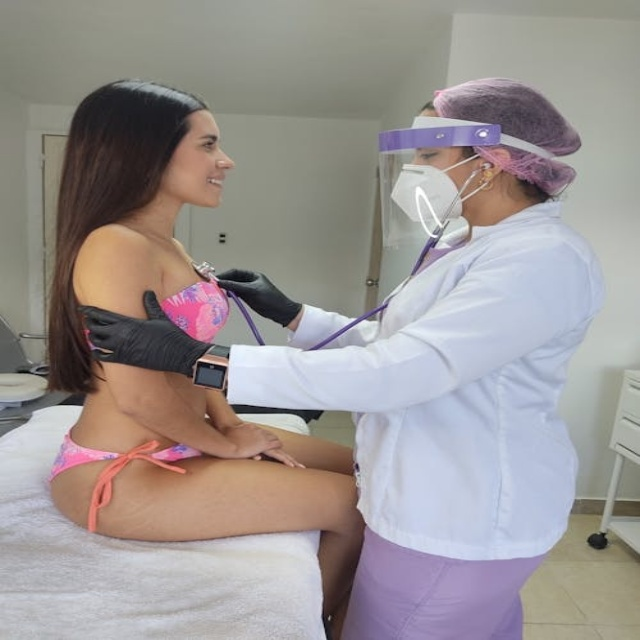Guantes: (76, 288, 197, 372), (214, 264, 302, 326)
Mascara: (389, 152, 473, 233)
Sin_gafas: (179, 130, 223, 155)
Sin_guantes: (216, 421, 307, 465)
Sin_mascara: (198, 169, 233, 207)
